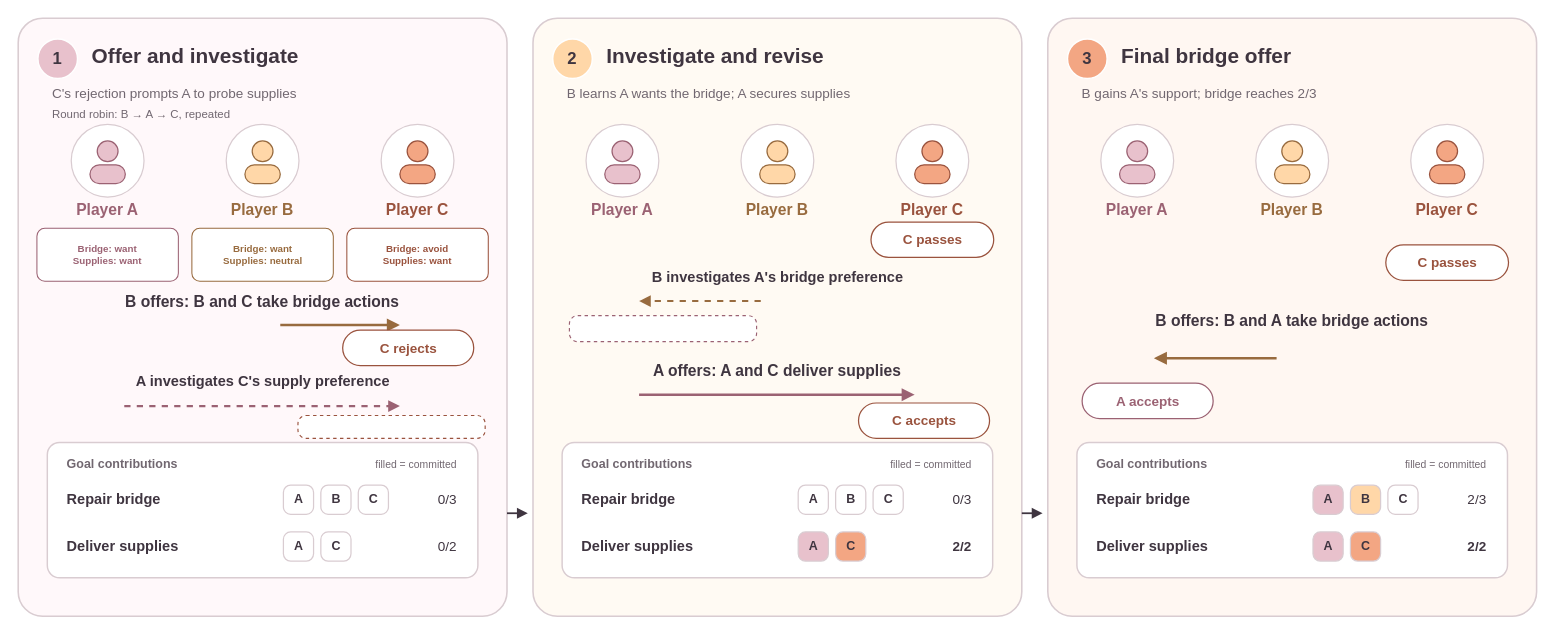
Some shapes in this 1556 by 635 pixel diagram are drawn without their labels. Each missing label, with the centre of its shape:
Only A learns: want: point 391,426
Only B learns: want: point 662,328
